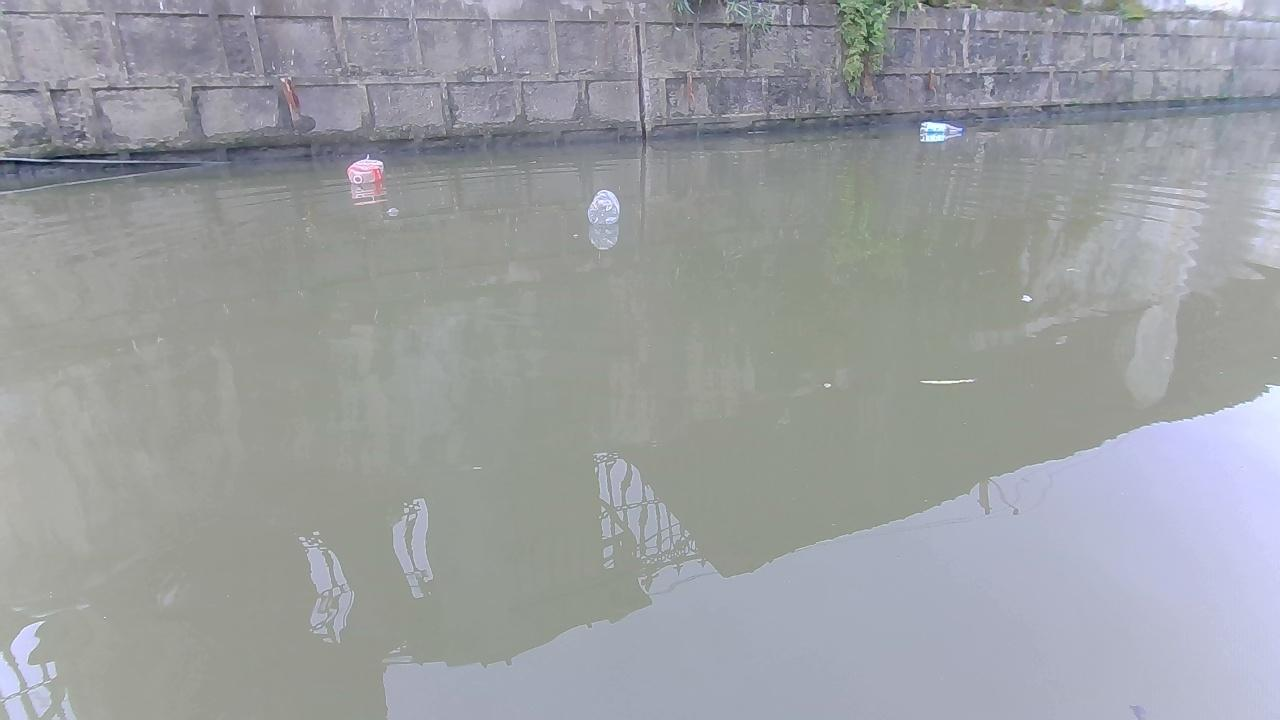bottle: (583, 185, 621, 227), (345, 157, 386, 191), (916, 118, 967, 137)
